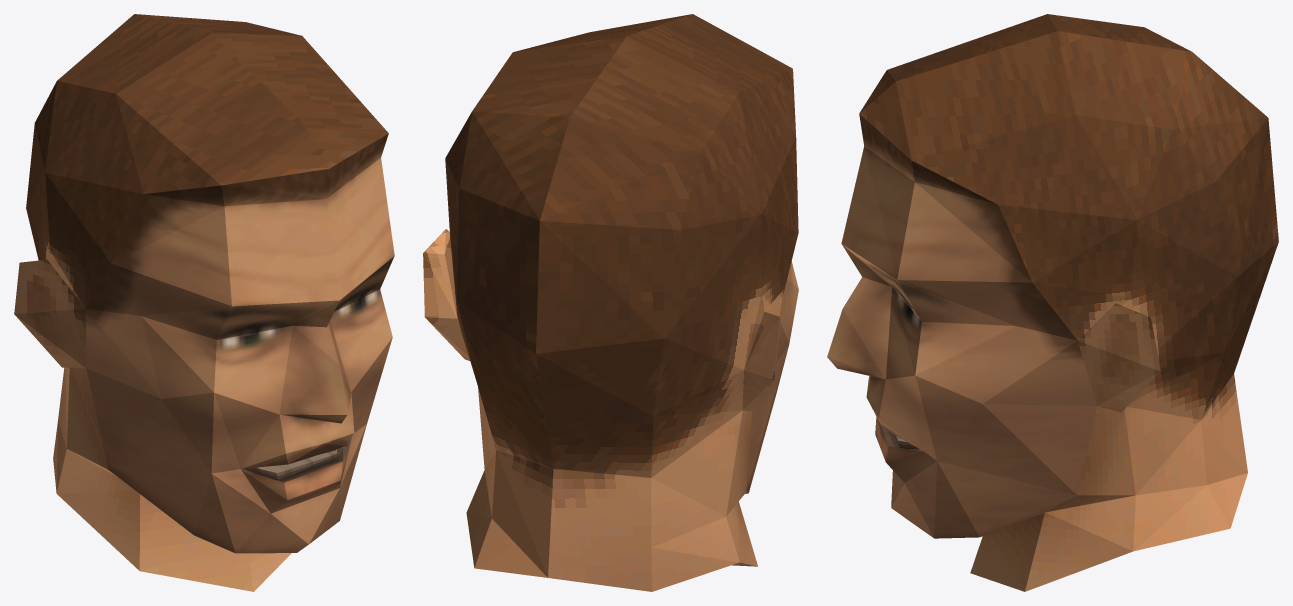
The model's file is CutterHead4.obj.
The picture shows the model from 3 angles, left to right: view 1: azimuth 30°, elevation 25°; view 2: azimuth 150°, elevation 25°; view 3: azimuth 270°, elevation 25°; orthographic projection. The views are drawn at different scales.
Visible parts, largest first — view 1: 3cu_fr, Regroup38, Regroup37, Regroup51; view 2: Regroup38, Regroup37, 3cu_fr; view 3: Regroup37, 3cu_fr, Regroup38.
Boxes of the visible parts, x1,y1,x2,y2 form: 3cu_fr: [85, 133, 394, 553]; Regroup38: [14, 14, 328, 591]; Regroup37: [135, 14, 388, 591]; Regroup51: [241, 438, 350, 482]; Regroup38: [536, 14, 798, 591]; Regroup37: [423, 14, 690, 577]; 3cu_fr: [746, 261, 798, 492]; Regroup37: [859, 31, 1278, 591]; 3cu_fr: [827, 114, 1097, 538]; Regroup38: [860, 14, 1191, 112].
Size of the model in its own units: 4.28 by 6.85 by 5.17.
Materials: 4 (4 with a texture image).
